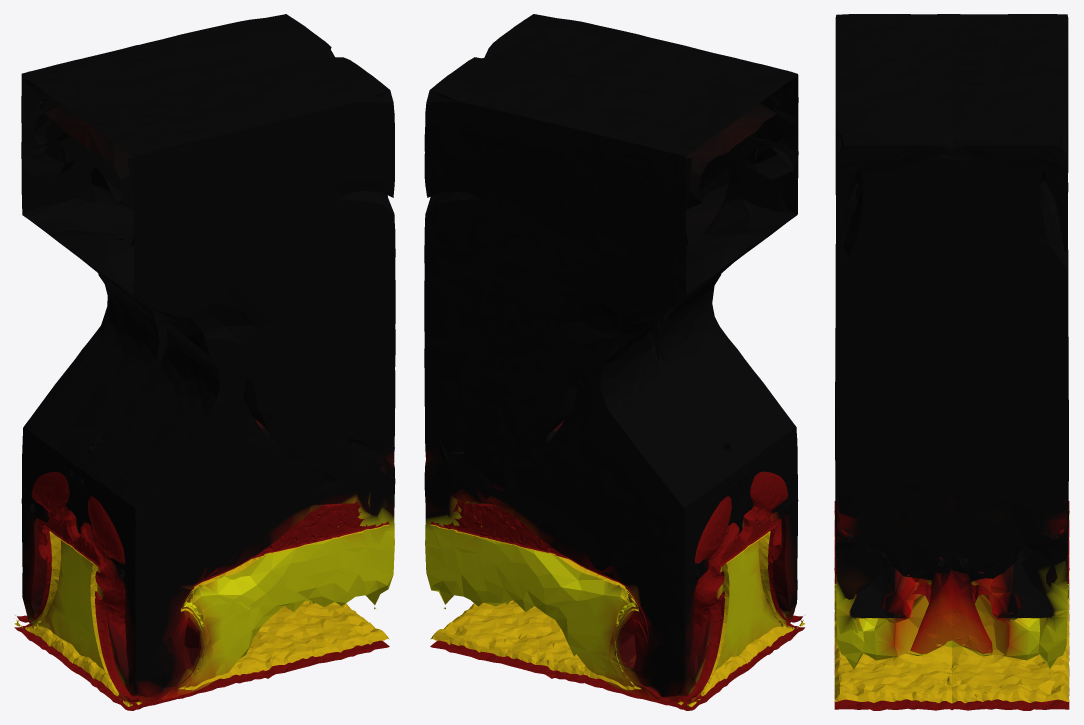
File: fire.glb
3 renders of one model, left to right at view 1: azimuth 30°, elevation 25°; view 2: azimuth 150°, elevation 25°; view 3: azimuth 270°, elevation 25°, orthographic. The views are drawn at different scales.
Visible parts, largest first — view 1: Shape_IndexedFaceSet, Shape_IndexedFaceSet.001; view 2: Shape_IndexedFaceSet, Shape_IndexedFaceSet.001; view 3: Shape_IndexedFaceSet, Shape_IndexedFaceSet.001.
Boxes of the visible parts, x1,y1,x2,y2 form: Shape_IndexedFaceSet: (21, 14, 395, 702); Shape_IndexedFaceSet.001: (14, 471, 389, 710); Shape_IndexedFaceSet: (424, 14, 798, 702); Shape_IndexedFaceSet.001: (430, 471, 805, 710); Shape_IndexedFaceSet: (835, 14, 1068, 673); Shape_IndexedFaceSet.001: (834, 501, 1069, 710).
Bounding box in the file's own units: 3.95 × 7.74 × 2.89.
